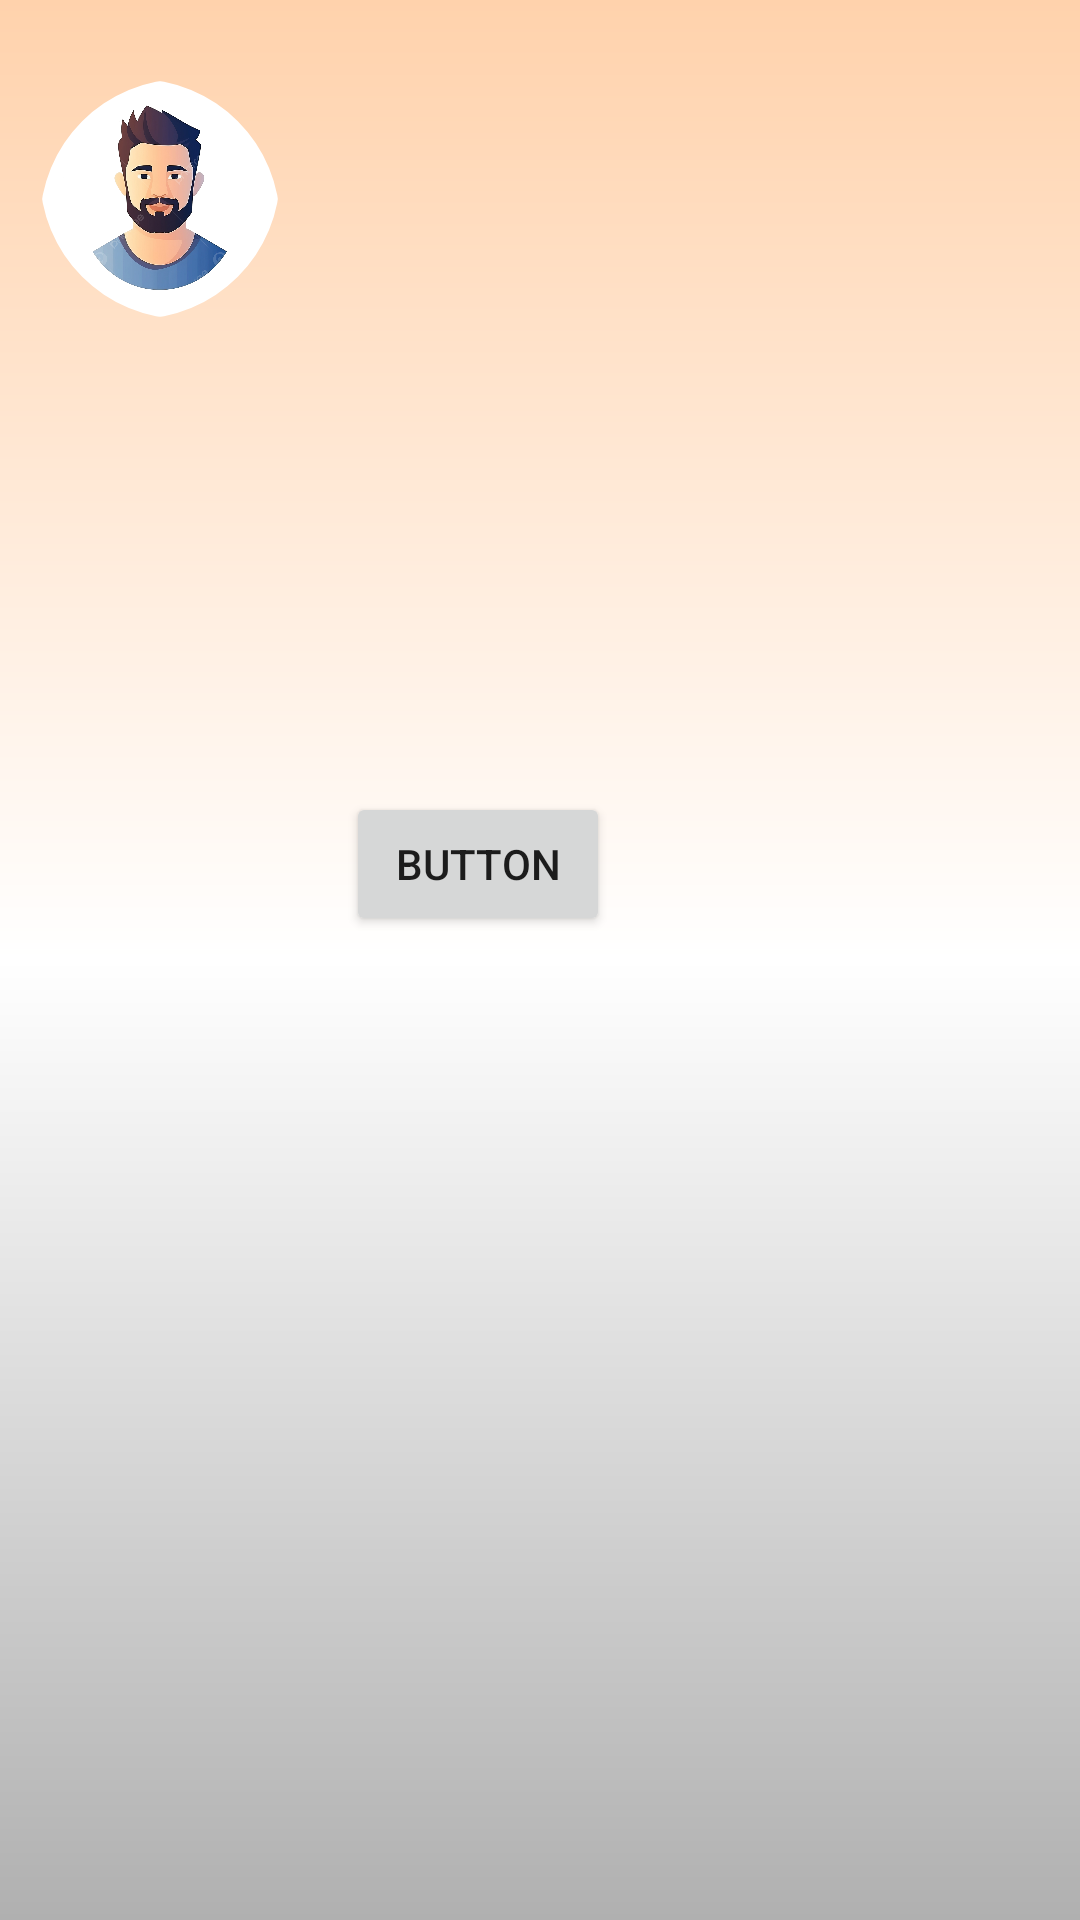

Named icons in this screenshot (1080×1920) and their centers, (x,y):
user: (160,199)
